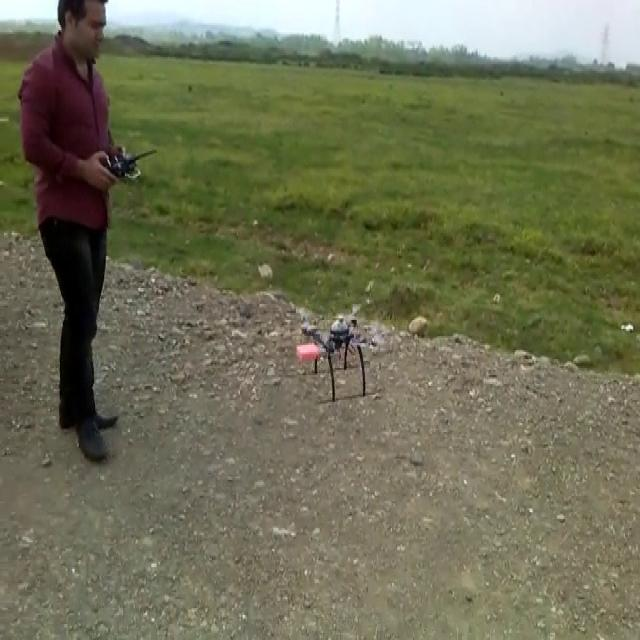drone: (295, 310, 380, 406)
